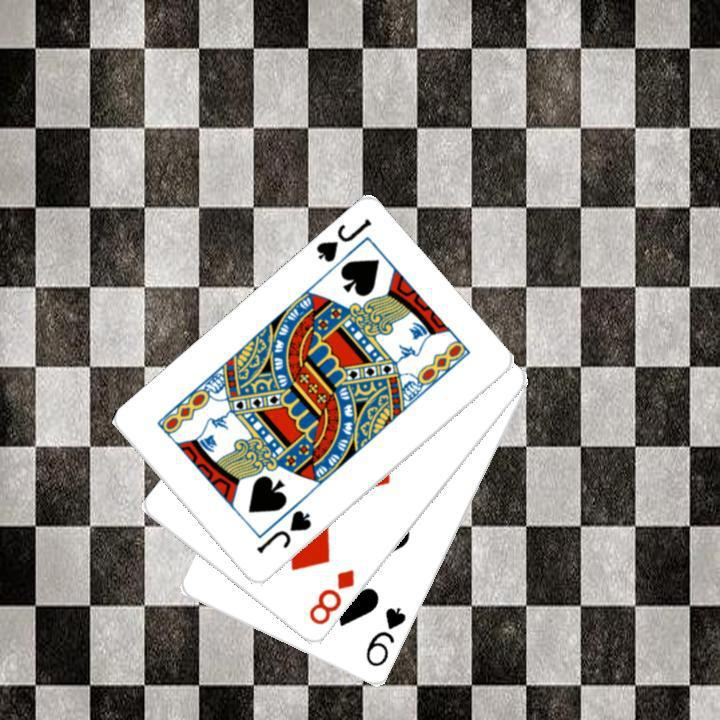8: (304, 565, 357, 628)
9: (361, 603, 409, 669)
J: (311, 214, 374, 266), (252, 506, 314, 556)
